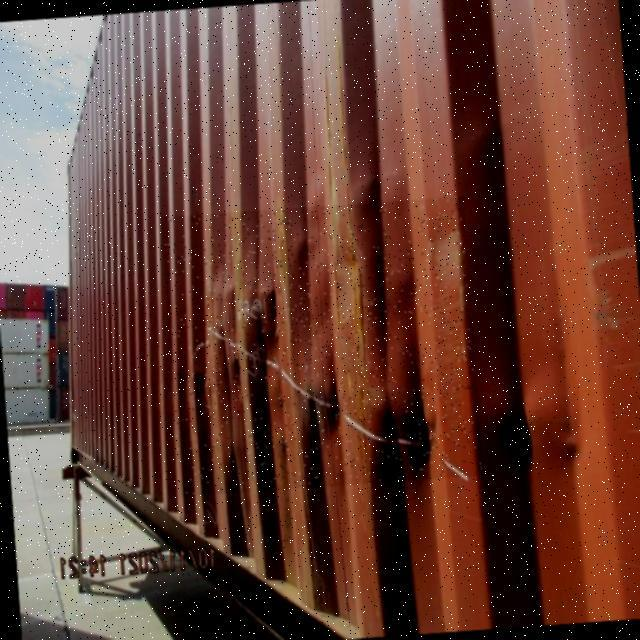dent: (162, 197, 485, 498)
